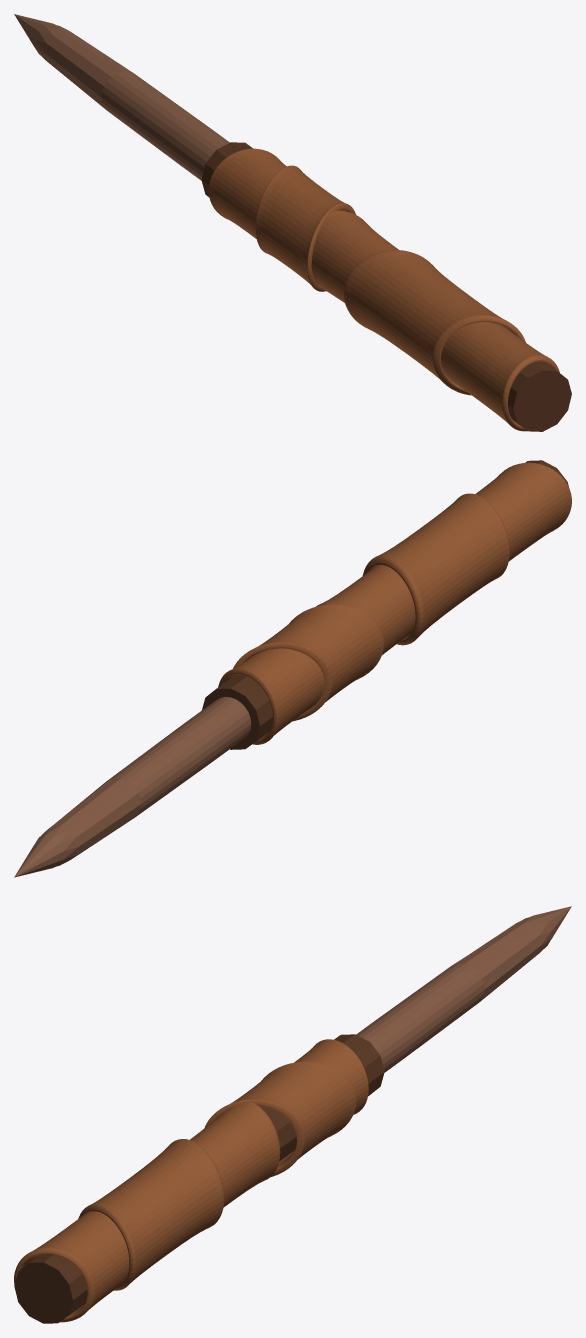
File: Wand 3.glb
3 views of the same model, one above another, from view 1: azimuth 30°, elevation 25°; view 2: azimuth 150°, elevation 25°; view 3: azimuth 330°, elevation 25° (orthographic).
Visible parts, largest first — view 1: GeneratedWand; view 2: GeneratedWand; view 3: GeneratedWand.
Boxes of the visible parts, box(x1,y1,x2,y2) form: GeneratedWand: box(14, 14, 571, 431); GeneratedWand: box(14, 460, 571, 877); GeneratedWand: box(14, 906, 571, 1323).
Size of the model in its own units: 0.0408 by 0.0408 by 0.472.
